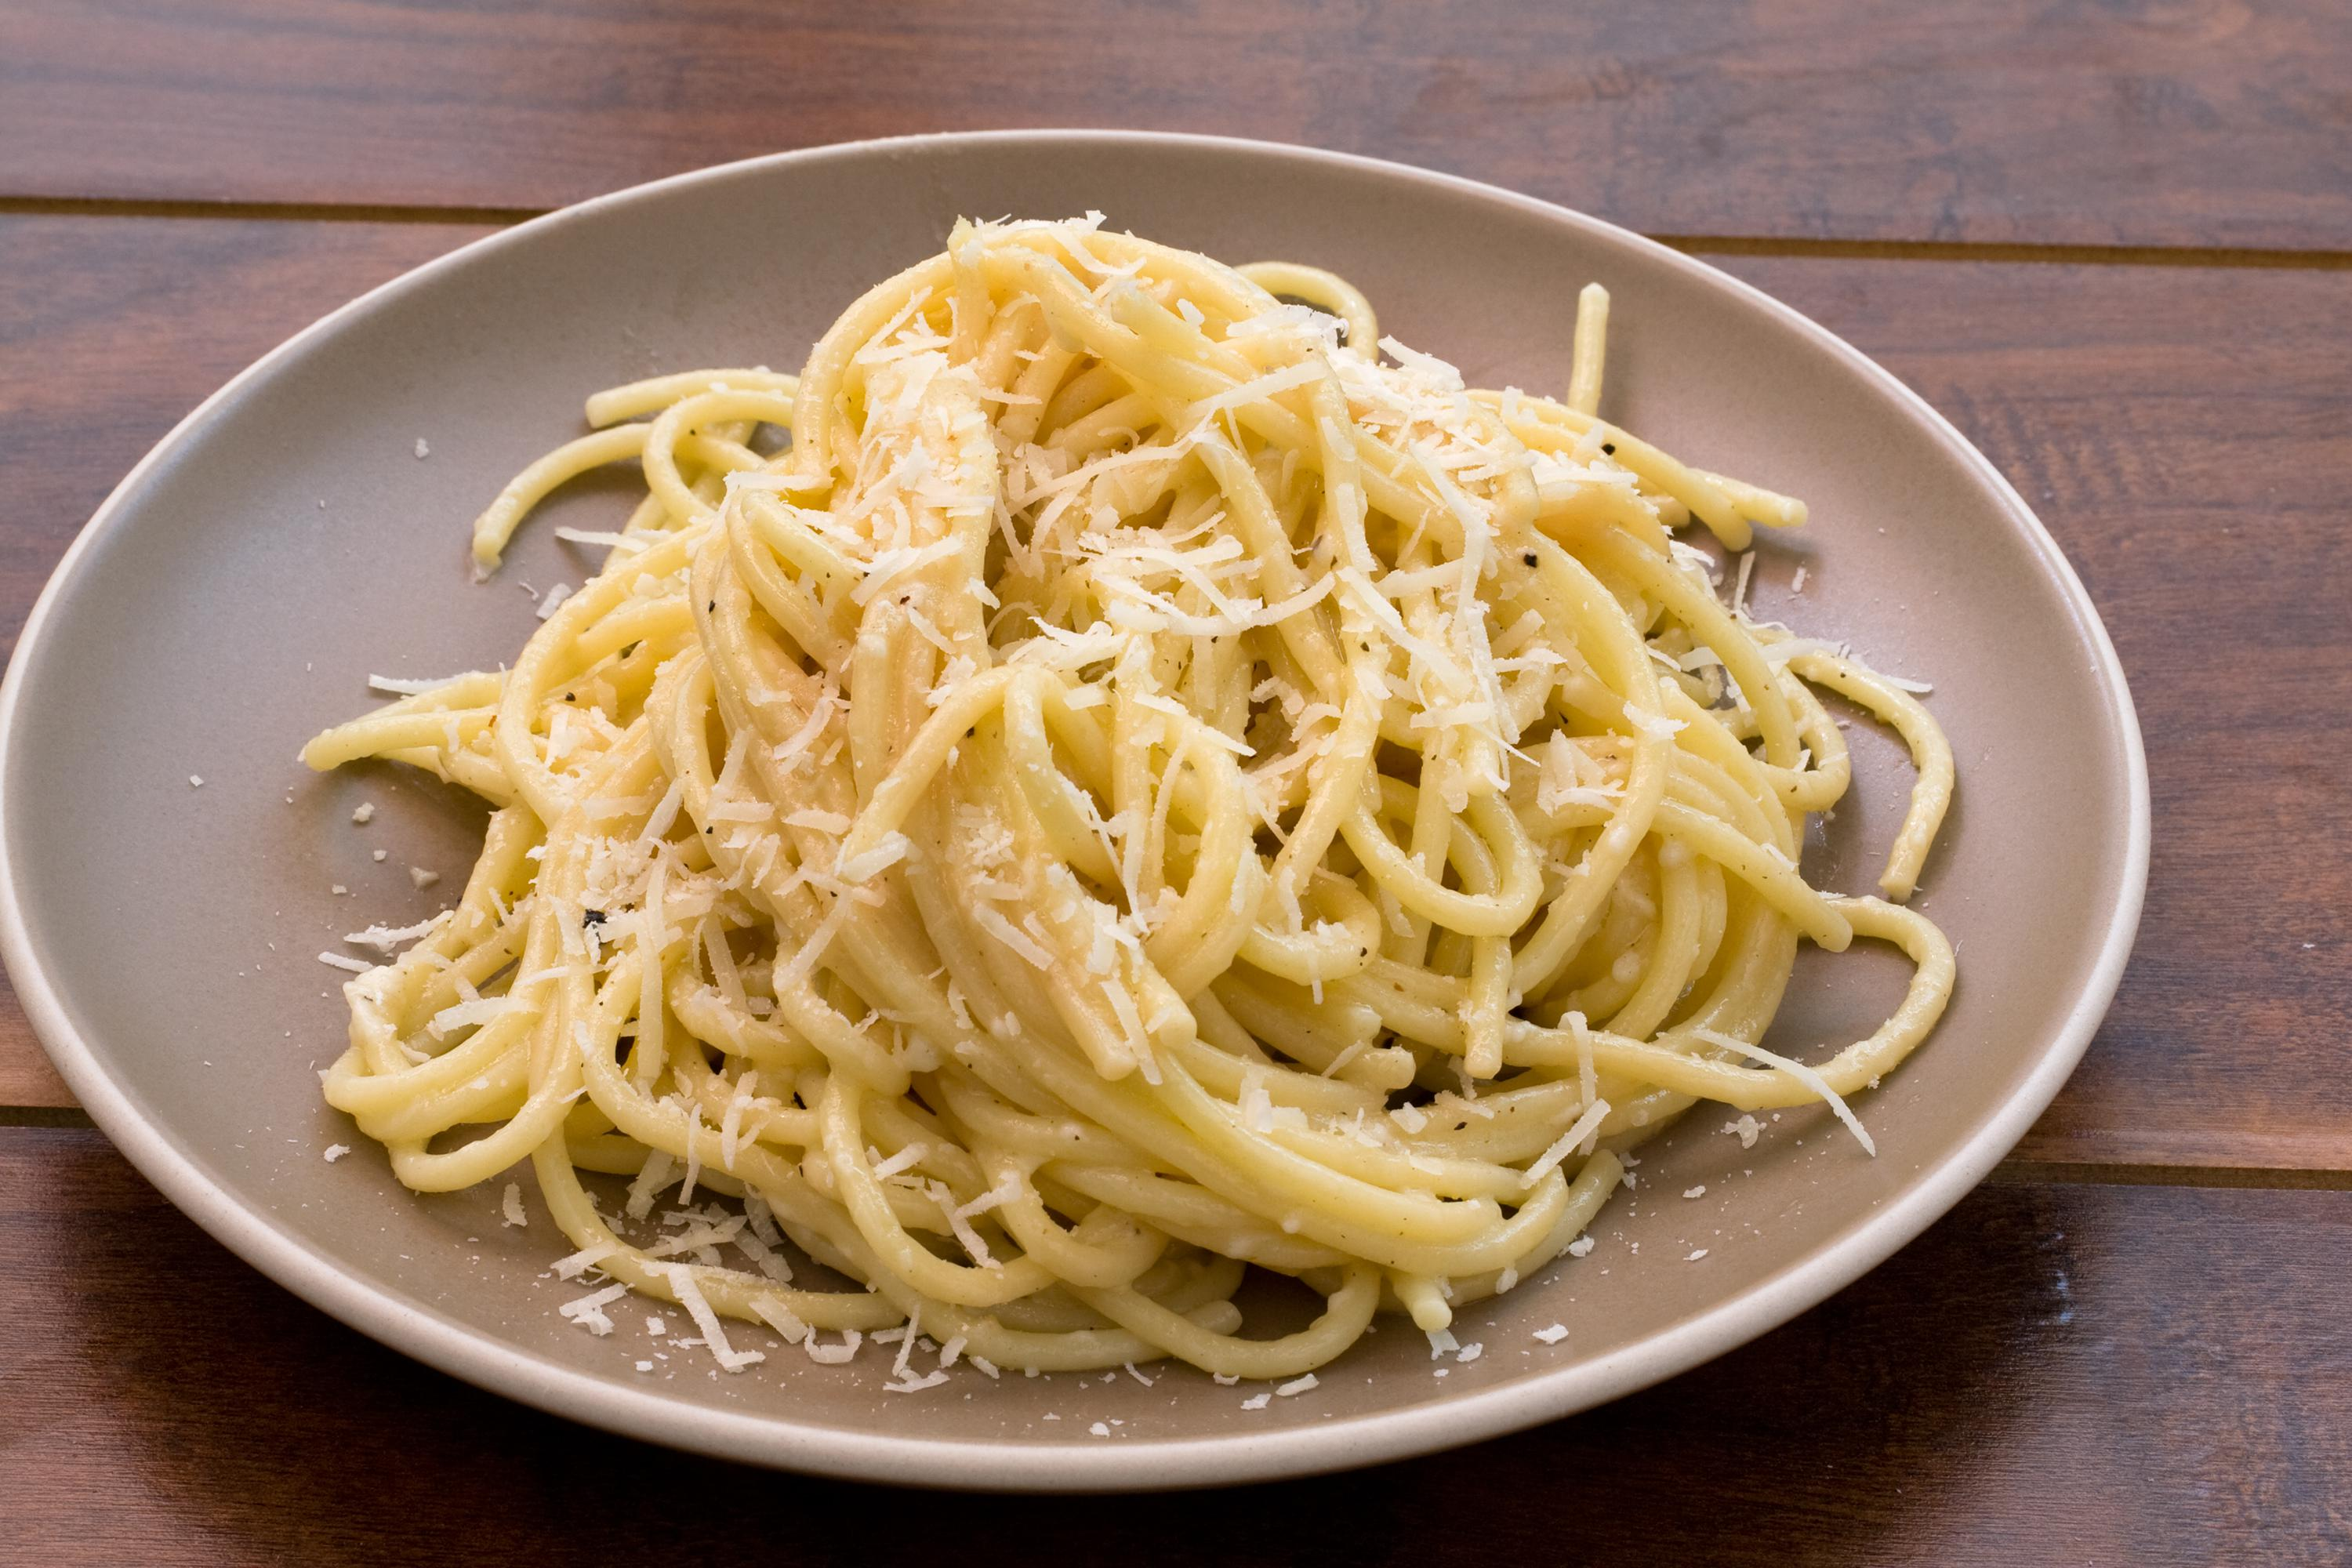plain spaghetti: (348, 249, 1809, 1272)
